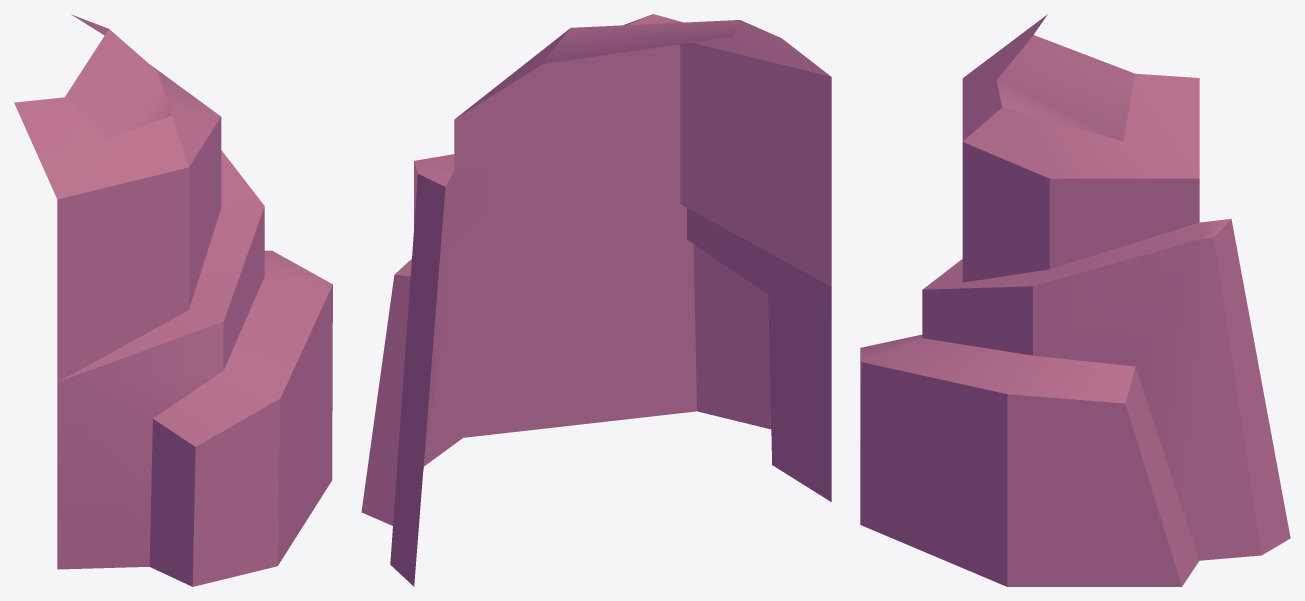
File: Module_Corner_OUT_Mesh_v01_Wall.fbx
The picture shows the model from 3 angles, left to right: view 1: azimuth 30°, elevation 25°; view 2: azimuth 150°, elevation 25°; view 3: azimuth 270°, elevation 25°; orthographic projection. The views are drawn at different scales.
Visible parts, largest first — view 1: Module_Corner_OUT_Mesh_v01_Wall; view 2: Module_Corner_OUT_Mesh_v01_Wall; view 3: Module_Corner_OUT_Mesh_v01_Wall.
Part boxes in pixels (box(x1,y1,x2,y2)): Module_Corner_OUT_Mesh_v01_Wall: box(14, 14, 332, 586); Module_Corner_OUT_Mesh_v01_Wall: box(361, 14, 831, 586); Module_Corner_OUT_Mesh_v01_Wall: box(860, 14, 1290, 586).
Size of the model in its own units: 287 by 407 by 363.
